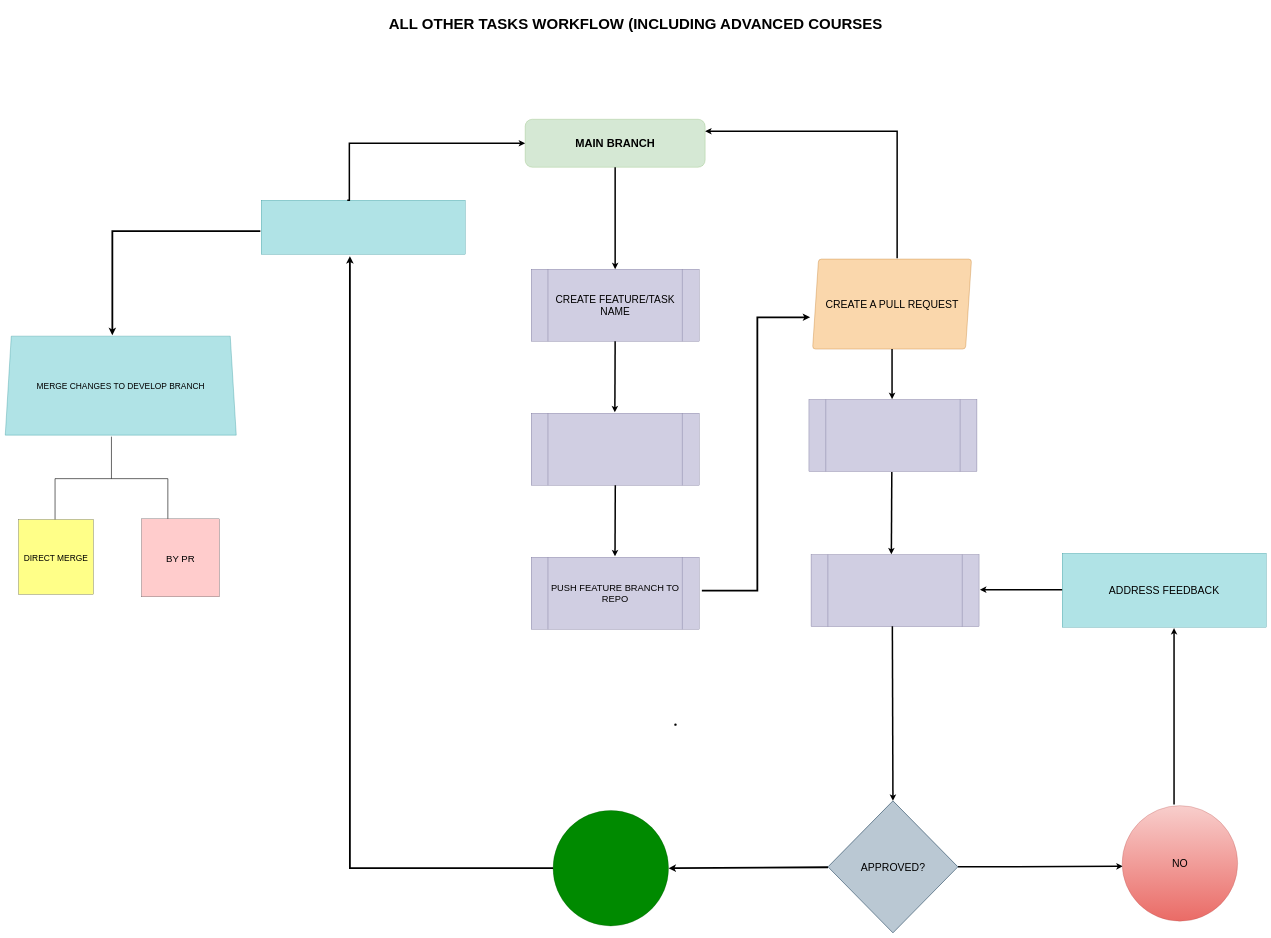
Image size: 1271x938. Some labels were removed from this diagram. Each missing label, with the centre of its shape:
"ADD AND COMMIT CHANGES" goes at point 615,449.
"ADDRESS PHPCS FEEDBACK (IF ANY)" goes at point 893,435.
"ASSIGN CODE REVIEW" goes at point 895,590.
"MERGE WITH MAIN BRANCH" goes at point 363,227.
"YES" goes at point 611,868.
